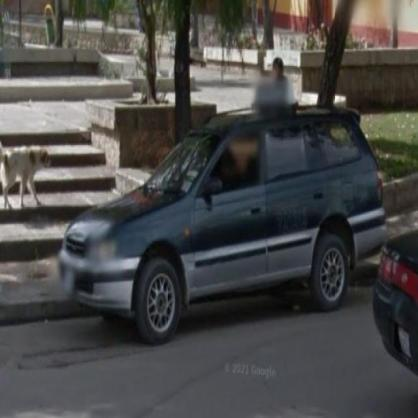car: (66, 109, 386, 345), (372, 213, 417, 379)
